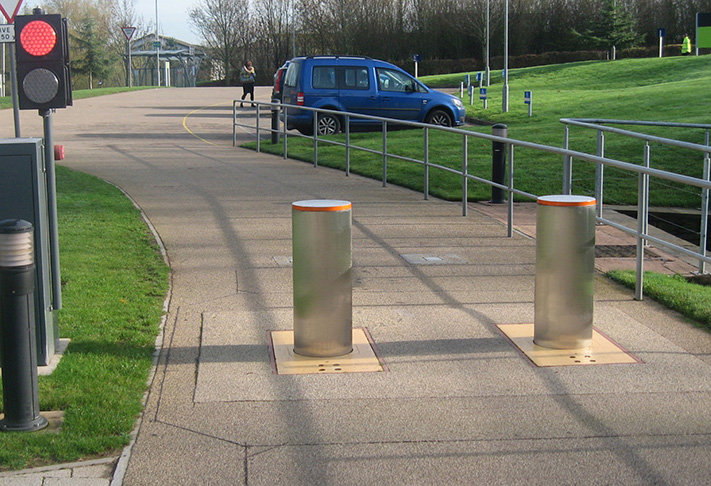bollard: (287, 200, 363, 361), (1, 229, 48, 430), (539, 197, 593, 355)
trafficlight: (12, 11, 63, 111)
